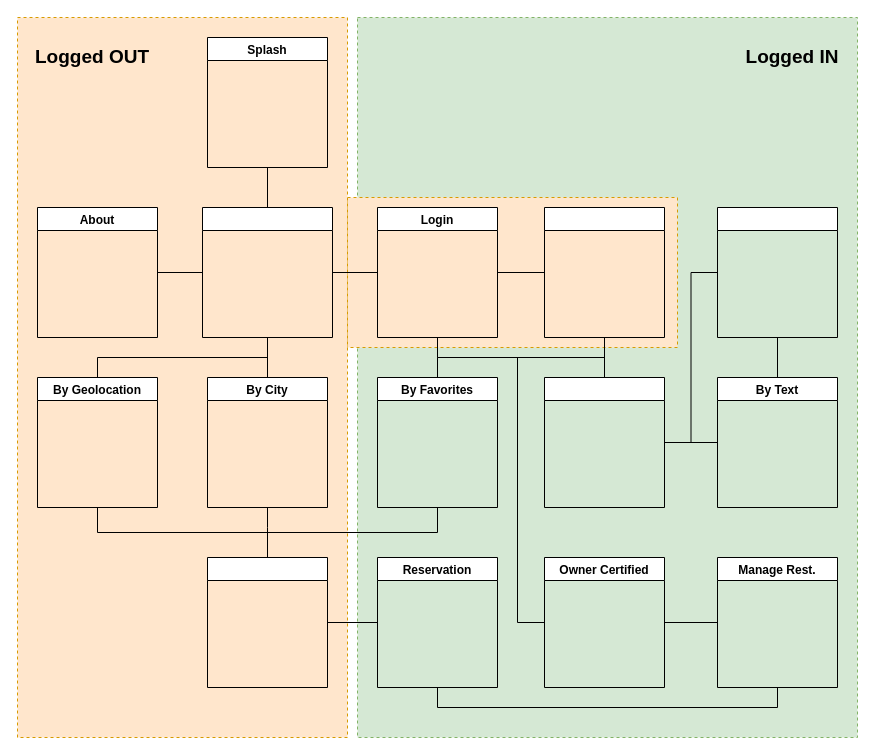
Some shapes in this 885 by 755 pixel diagram are drawn without their labels. Here are the shapes that lost their labels. From the top down, the box of each, then its label:
(202, 206, 332, 338): Home
(544, 206, 664, 338): Register
(716, 206, 838, 338): By Pic
(544, 376, 664, 508): Add menu
(206, 556, 328, 688): Restaurant menu
